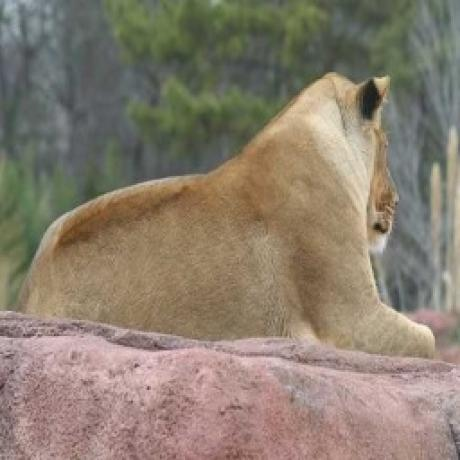Lion: (23, 69, 436, 363)
